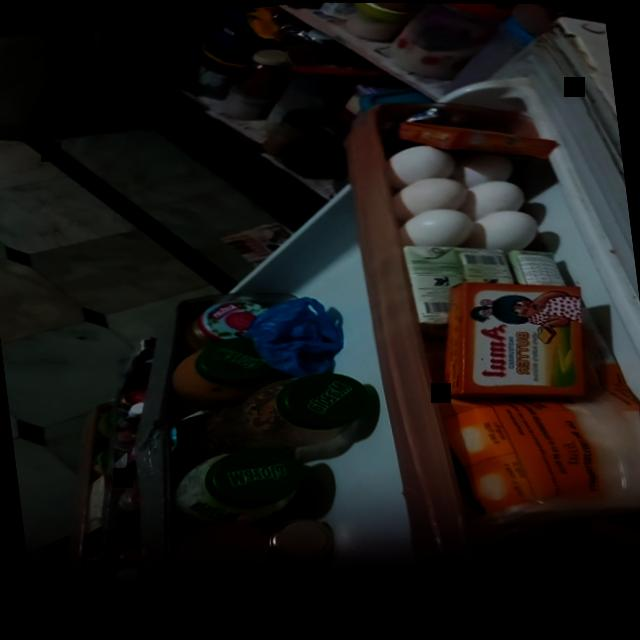butter: (430, 269, 600, 409)
